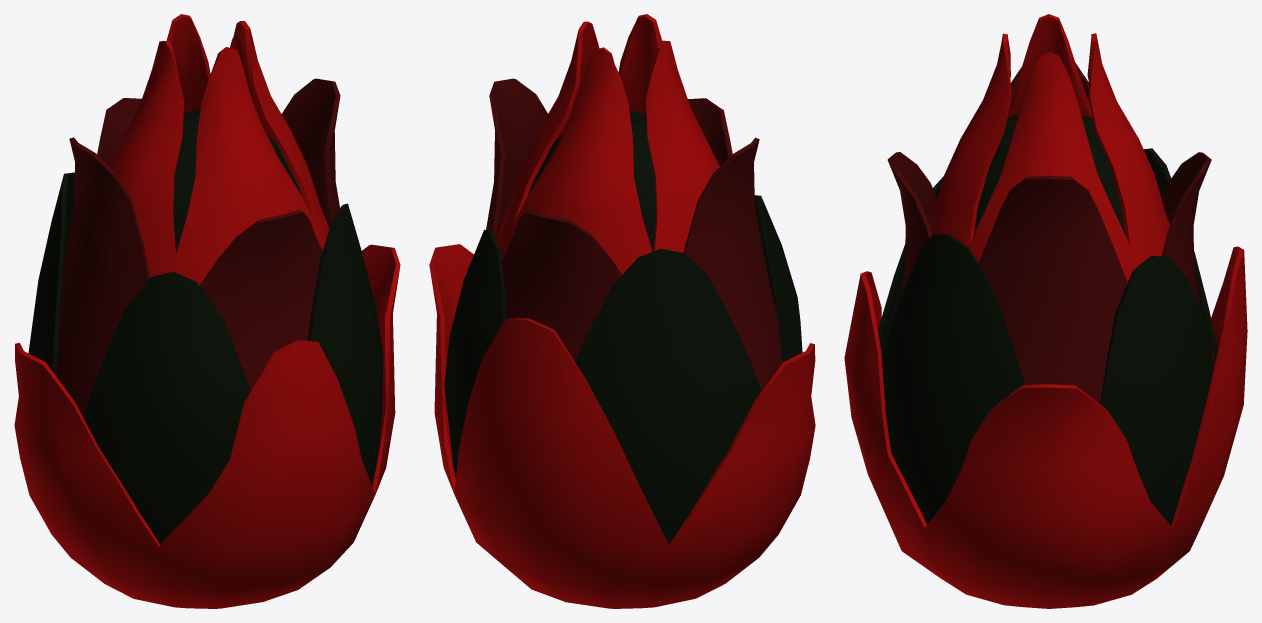
Rendered from Dragon fruit.FBX.
3 renders of one model, left to right at view 1: azimuth 30°, elevation 25°; view 2: azimuth 150°, elevation 25°; view 3: azimuth 270°, elevation 25°, orthographic.
Visible parts, largest first — view 1: Dragon fruit; view 2: Dragon fruit; view 3: Dragon fruit.
Part boxes in pixels (x1,y1,x2,y2): Dragon fruit: (14,14,400,608); Dragon fruit: (429,14,815,608); Dragon fruit: (844,14,1247,608).
Bounding box in the file's own units: 860 × 805 × 1230.
